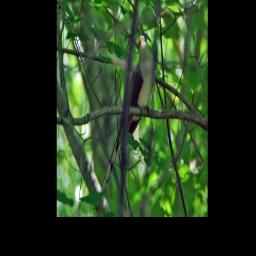Cuckoo: (98, 32, 156, 193)
